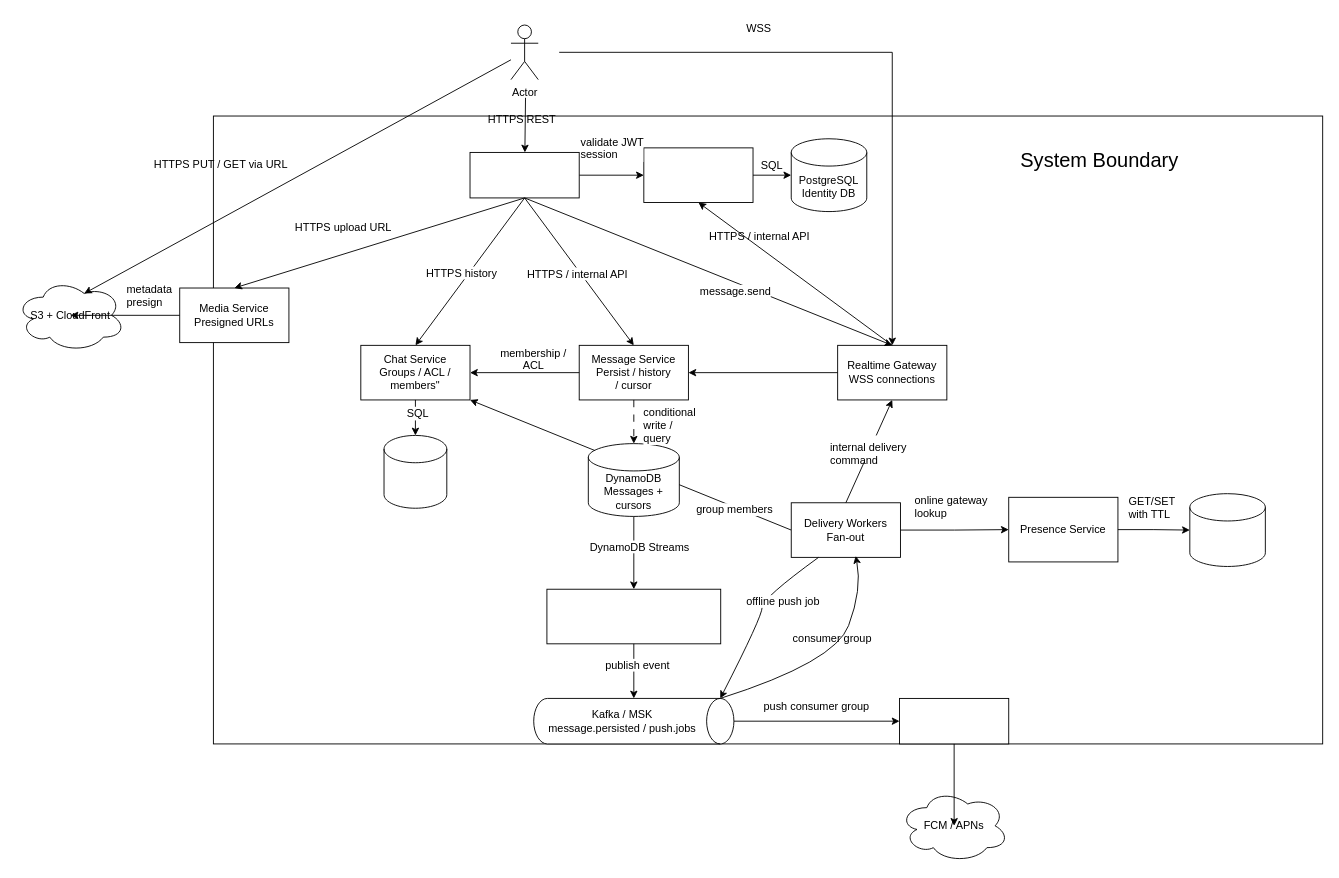
This 1339x878 diagram has some shape labels left out. Here are the shapes that lost their labels. From the top down, the centre of each, then its label:
At (524,175): "API Gateway".
At (698,174): "Identity Service".
At (415,471): "PostgreSQL Chat DB".
At (1227,529): "Redis Presence / cache".
At (633,616): "Stream Relay DynamoDB Streams → Kafka".
At (954,721): "Push Service".
